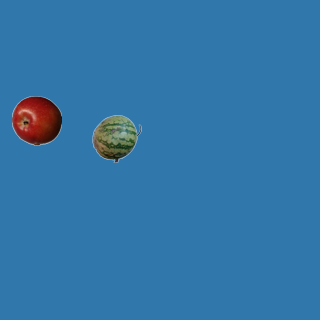Apple Braeburn: (11, 95, 61, 145)
Watermelon: (91, 113, 141, 163)
